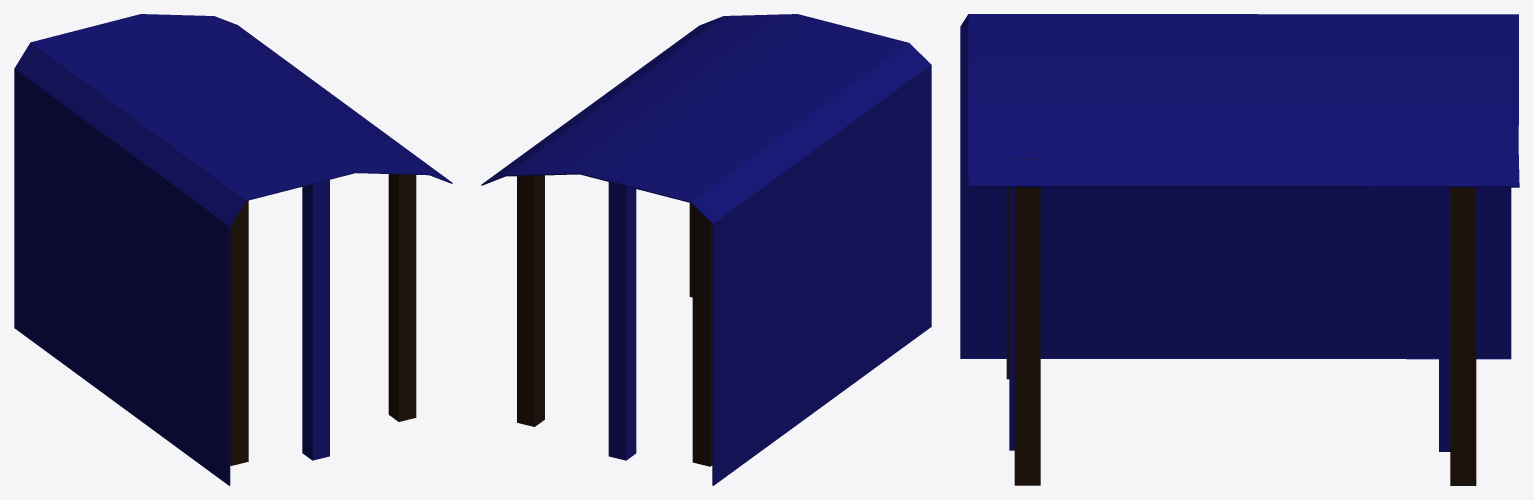
Rendered from ShopTent_v1.fbx.
The picture shows the model from 3 angles, left to right: view 1: azimuth 30°, elevation 25°; view 2: azimuth 150°, elevation 25°; view 3: azimuth 270°, elevation 25°; orthographic projection. The views are drawn at different scales.
Parts seen in each view (by area): view 1: Tent; view 2: Tent; view 3: Tent.
Boxes of the visible parts, x1,y1,x2,y2 form: Tent: [14, 14, 452, 485]; Tent: [481, 14, 931, 485]; Tent: [960, 14, 1519, 485].
Bounding box in the file's own units: 3.03 × 3.75 × 5.06.
